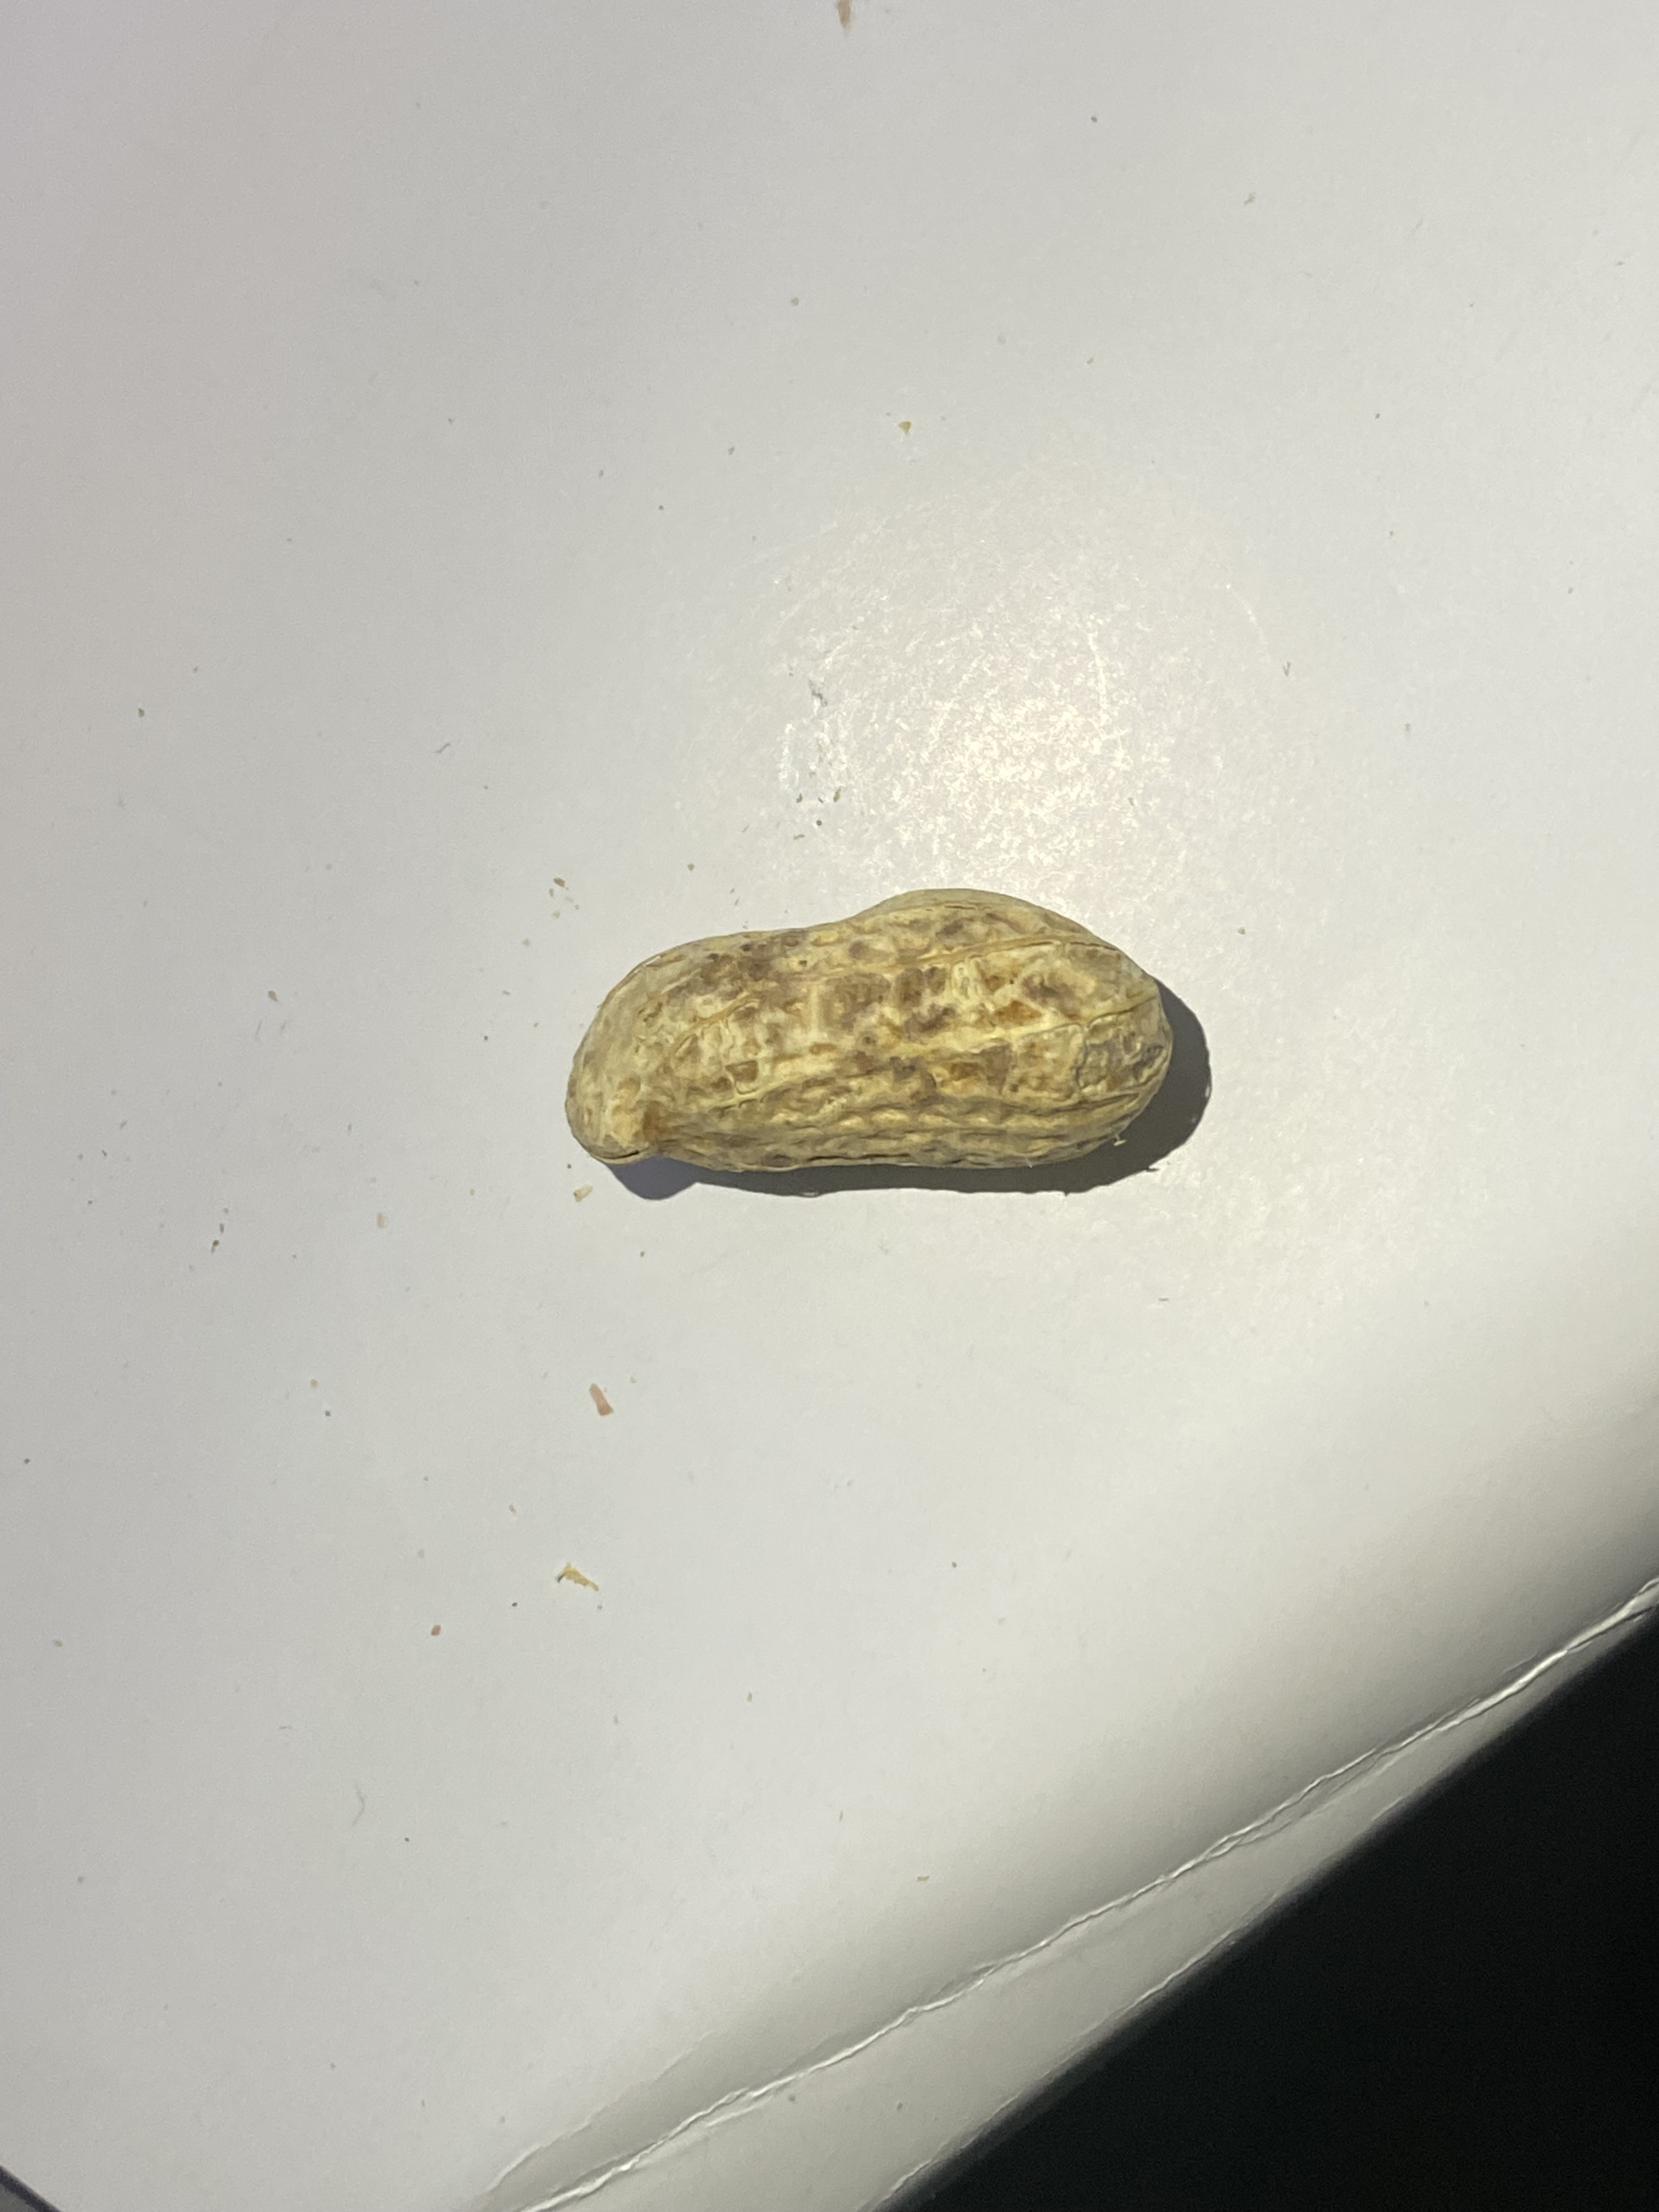kacang2: (540, 869, 1199, 1216)
